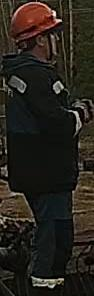gloves: (73, 98, 94, 125)
helmet: (8, 1, 63, 42)
vest: (3, 55, 79, 193)
